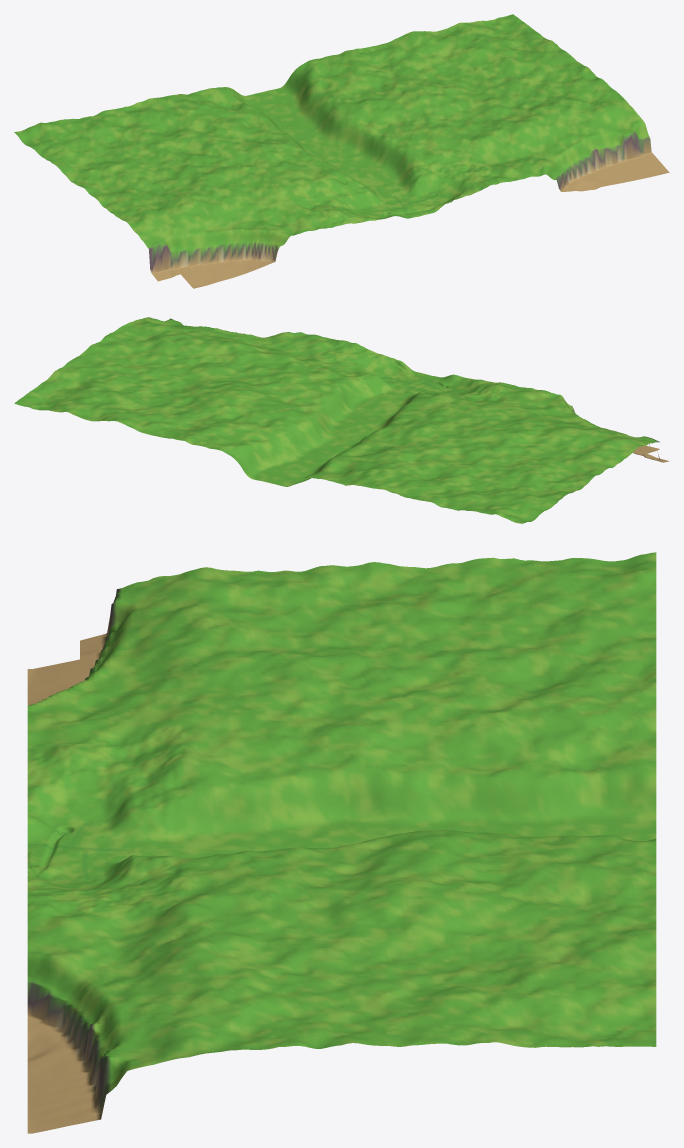
The model's file is terrain.glb.
3 renders of one model, top to bottom at view 1: azimuth 30°, elevation 25°; view 2: azimuth 150°, elevation 25°; view 3: azimuth 270°, elevation 25°, orthographic. The views are drawn at different scales.
Parts seen in each view (by area): view 1: terrain_0_2, terrain_4_2, terrain_1_2, terrain_3_2, terrain_3_1, terrain_4_0, terrain_3_0, terrain_0_0, terrain_1_0, terrain_0_1, terrain_1_1, terrain_2_2 (+6 smaller); view 2: terrain_3_0, terrain_0_1, terrain_4_1, terrain_3_1, terrain_1_1, terrain_3_2, terrain_1_0, terrain_4_0, terrain_0_0, terrain_2_0, terrain_2_1, terrain_2_2 (+6 smaller); view 3: terrain_2_2, terrain_4_2, terrain_2_1, terrain_2_0, terrain_1_0, terrain_1_1, terrain_0_0, terrain_4_1, terrain_4_0, terrain_0_1, terrain_1_2, terrain_3_0 (+6 smaller).
Boxes of the visible parts, box(x1,y1,x2,y2) form: terrain_0_2: box(119, 193, 261, 288); terrain_4_2: box(482, 102, 624, 191); terrain_1_2: box(210, 172, 351, 266); terrain_3_2: box(391, 128, 533, 205); terrain_3_1: box(339, 84, 480, 166); terrain_4_0: box(377, 22, 519, 84); terrain_3_0: box(286, 45, 428, 110); terrain_0_0: box(14, 110, 156, 176); terrain_1_0: box(105, 92, 247, 153); terrain_0_1: box(66, 154, 208, 217); terrain_1_1: box(157, 133, 299, 192); terrain_2_2: box(300, 167, 442, 223); terrain_3_0: box(153, 397, 298, 473); terrain_0_1: box(484, 429, 629, 490); terrain_4_1: box(114, 337, 258, 397); terrain_3_1: box(206, 364, 351, 423); terrain_1_1: box(392, 408, 536, 467); terrain_3_2: box(260, 334, 405, 403); terrain_1_0: box(338, 447, 483, 501); terrain_4_0: box(60, 374, 205, 435); terrain_0_0: box(431, 468, 575, 523); terrain_2_0: box(245, 423, 390, 486); terrain_2_1: box(299, 403, 444, 451); terrain_2_2: box(352, 364, 497, 414); terrain_2_2: box(27, 744, 237, 875); terrain_4_2: box(27, 920, 237, 1087); terrain_2_1: box(237, 737, 446, 852); terrain_2_0: box(446, 738, 656, 840); terrain_1_0: box(446, 642, 656, 744); terrain_1_1: box(237, 651, 446, 746); terrain_0_0: box(446, 552, 656, 651); terrain_4_1: box(237, 910, 446, 1010); terrain_4_0: box(446, 910, 656, 1001); terrain_0_1: box(237, 562, 446, 654); terrain_1_2: box(27, 653, 237, 770); terrain_3_0: box(446, 830, 656, 915).
Bounding box in the file's own units: 990 × 96.08 × 540.
